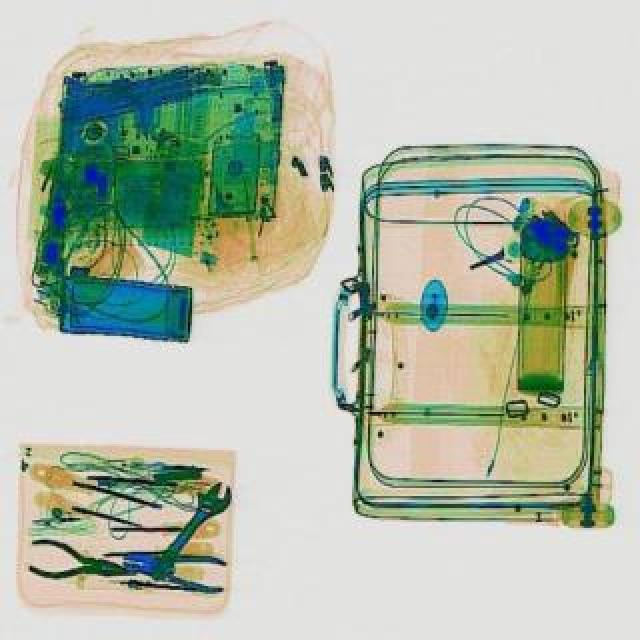scissors: (136, 472, 240, 588)
wrench: (20, 534, 136, 592), (120, 538, 228, 594)
